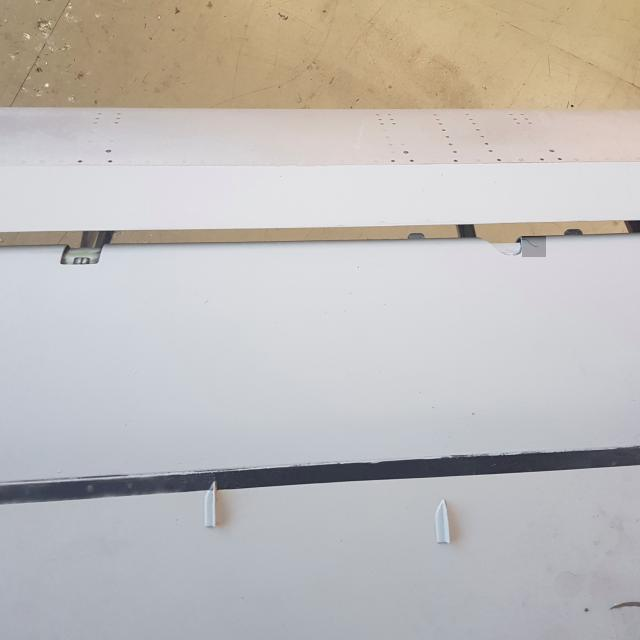crack: (523, 237, 547, 258)
